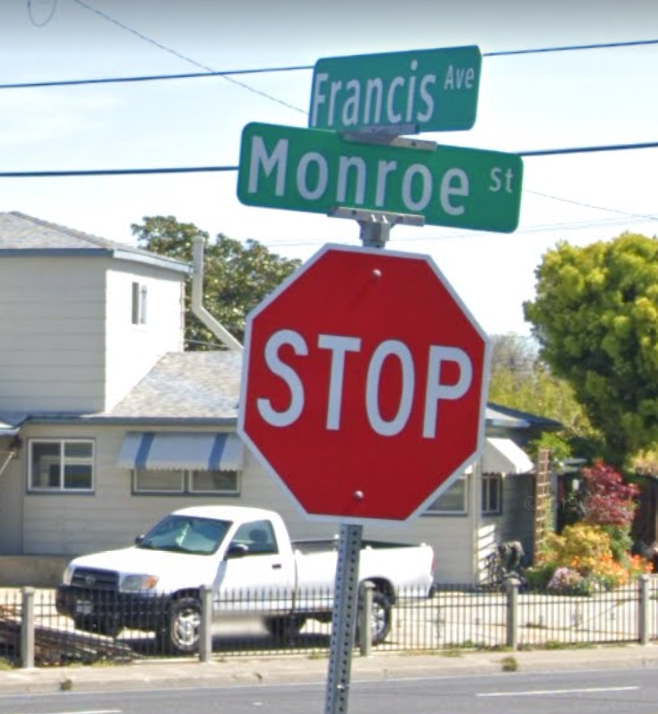stop_sign: (241, 249, 492, 519)
